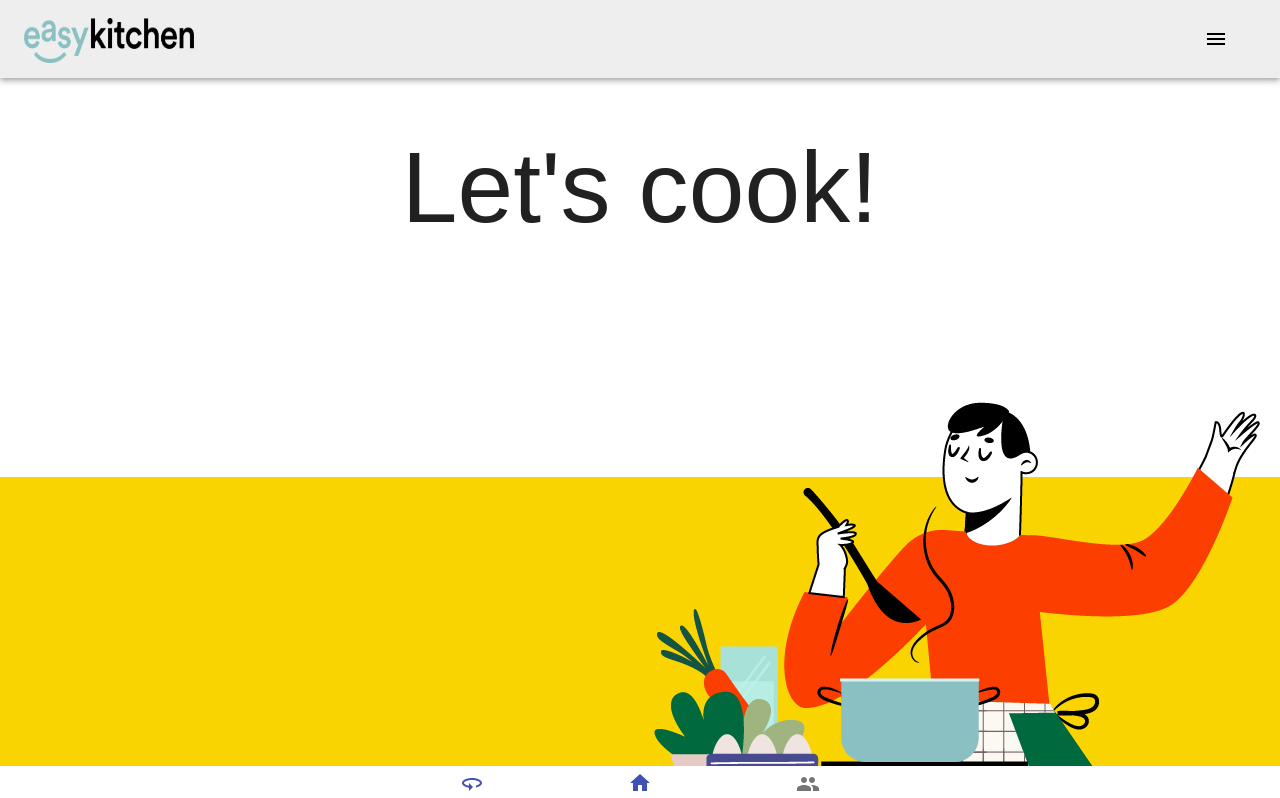
Test: TopNav render and nav function › navigates to the /add-a-dish
The image size is (1280, 798).
Click the button with test id "Menutest" at [1216, 39], box top-left (1192, 15), bottom-right (1240, 63)
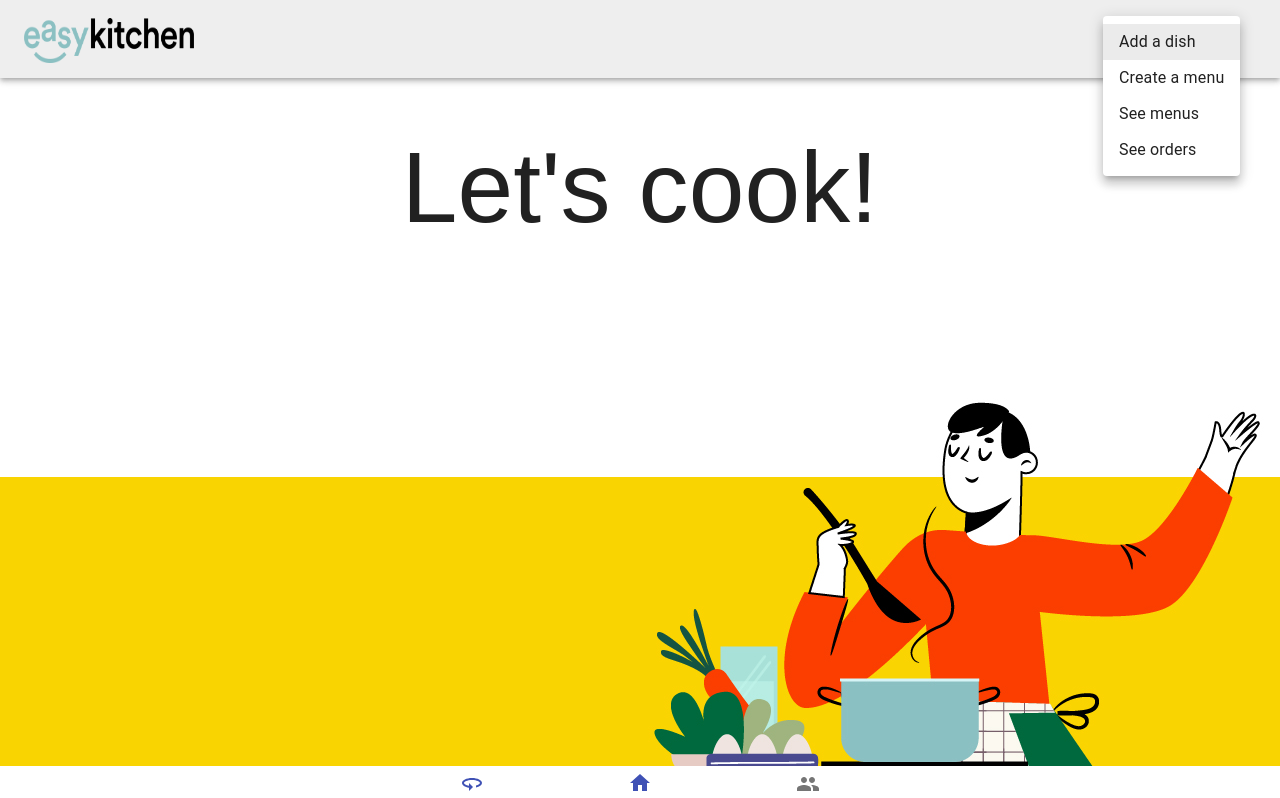
Expected: the menu item "Add a dish" is shown
Click the menu item "Add a dish" at [1172, 42], box top-left (1103, 24), bottom-right (1240, 60)
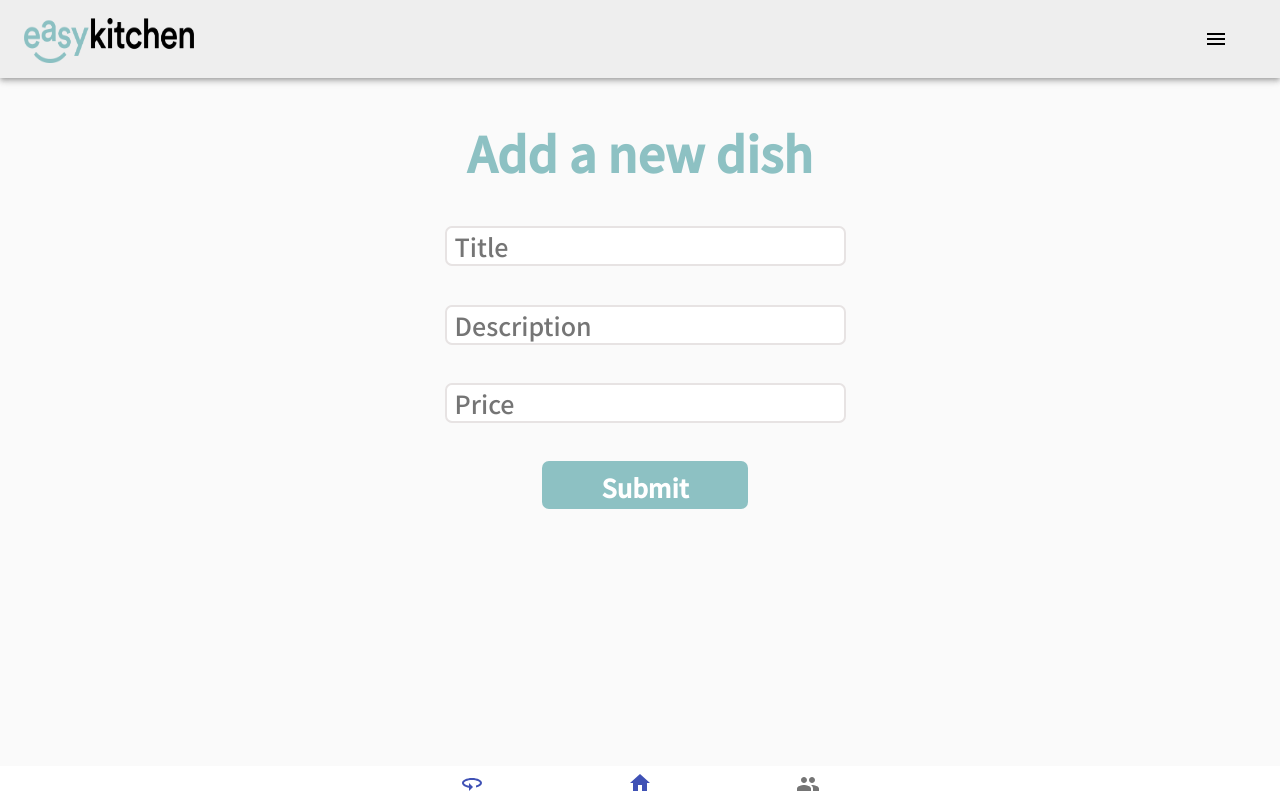
Expected: the form with test id "dishForm" is shown, top-left (434, 78), bottom-right (846, 548)
